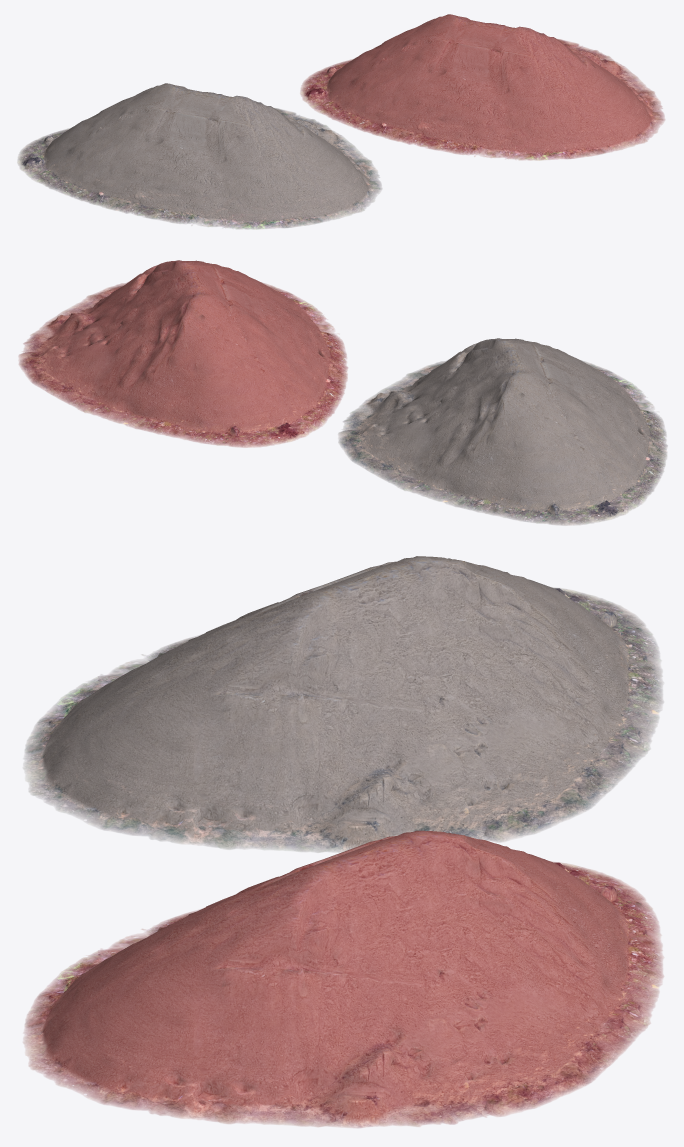
File: Iron Oxide and Aluminium powder.glb
3 views of the same model, one above another, from view 1: azimuth 30°, elevation 25°; view 2: azimuth 150°, elevation 25°; view 3: azimuth 270°, elevation 25° (orthographic). The views are drawn at different scales.
Visible parts, largest first — view 1: hromada_pisek_01_30k_hromada_pisek_01_30k_Material_0.001, hromada_pisek_01_30k; view 2: hromada_pisek_01_30k, hromada_pisek_01_30k_hromada_pisek_01_30k_Material_0.001; view 3: hromada_pisek_01_30k_hromada_pisek_01_30k_Material_0.001, hromada_pisek_01_30k.
Boxes of the visible parts, x1,y1,x2,y2 form: hromada_pisek_01_30k_hromada_pisek_01_30k_Material_0.001: (300,14,664,160); hromada_pisek_01_30k: (17,83,381,229); hromada_pisek_01_30k: (338,338,667,525); hromada_pisek_01_30k_hromada_pisek_01_30k_Material_0.001: (18,260,347,447); hromada_pisek_01_30k_hromada_pisek_01_30k_Material_0.001: (23,830,663,1127); hromada_pisek_01_30k: (23,556,663,852).
Bounding box in the file's own units: 10.22 × 1.28 × 5.15.
2 materials, 2 textured.
